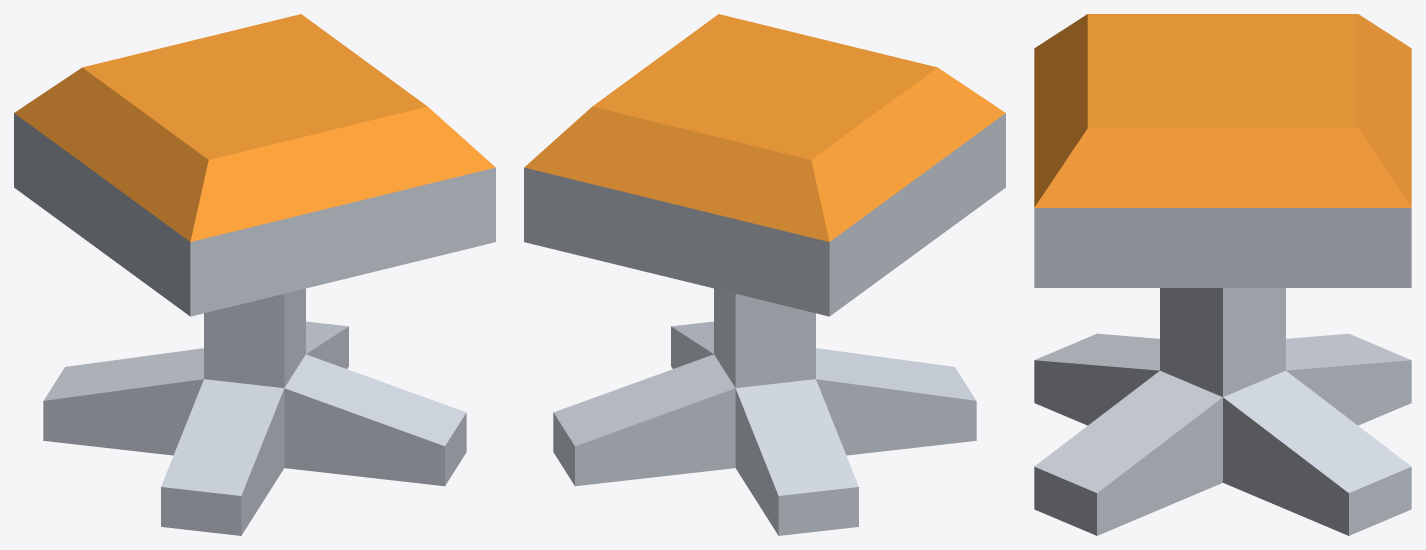
Rendered from desk_chairStool.obj.
The picture shows the model from 3 angles, left to right: view 1: azimuth 30°, elevation 25°; view 2: azimuth 150°, elevation 25°; view 3: azimuth 270°, elevation 25°; orthographic projection. The views are drawn at different scales.
Visible parts, largest first — view 1: desk_chairStool; view 2: desk_chairStool; view 3: desk_chairStool.
Part boxes in pixels (x1,y1,x2,y2): desk_chairStool: (14,14,495,535); desk_chairStool: (524,14,1005,535); desk_chairStool: (1034,14,1411,535).
Size of the model in its own units: 0.15 by 0.1688 by 0.15.
